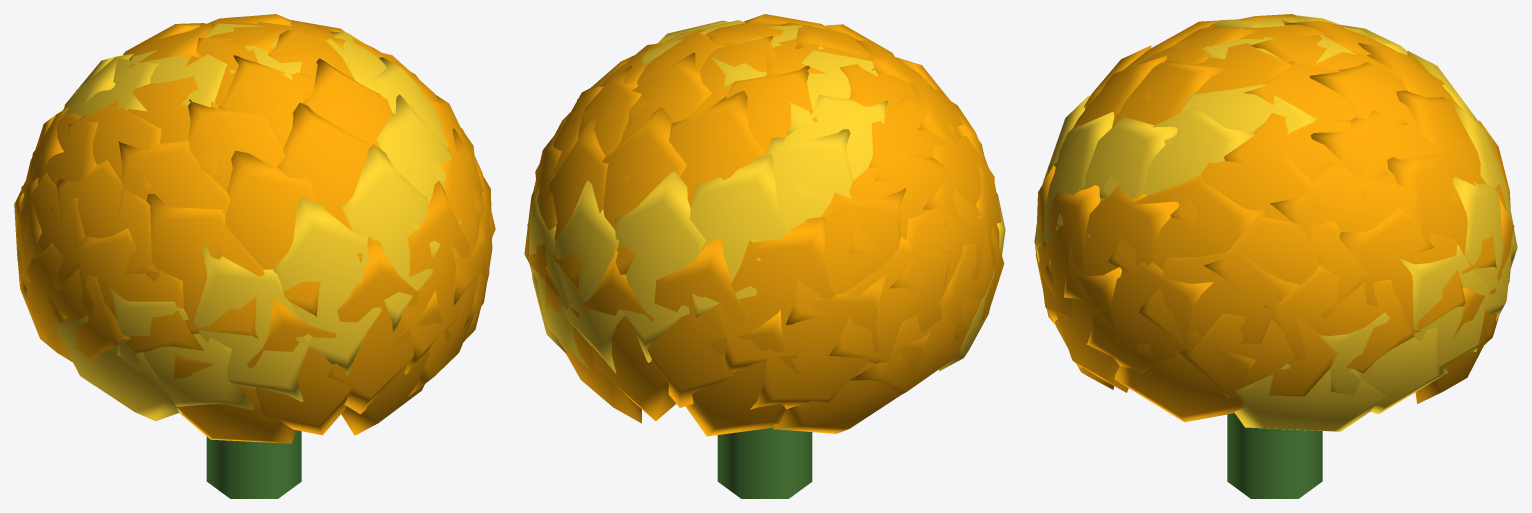
The model's file is marigold.glb.
3 renders of one model, left to right at view 1: azimuth 30°, elevation 25°; view 2: azimuth 150°, elevation 25°; view 3: azimuth 270°, elevation 25°, orthographic.
Parts seen in each view (by area): view 1: marigold; view 2: marigold; view 3: marigold.
Boxes of the visible parts, x1,y1,x2,y2 form: marigold: [14, 14, 495, 498]; marigold: [524, 14, 1005, 498]; marigold: [1034, 14, 1517, 498].
Size of the model in its own units: 0.0606 by 0.0617 by 0.0608.
